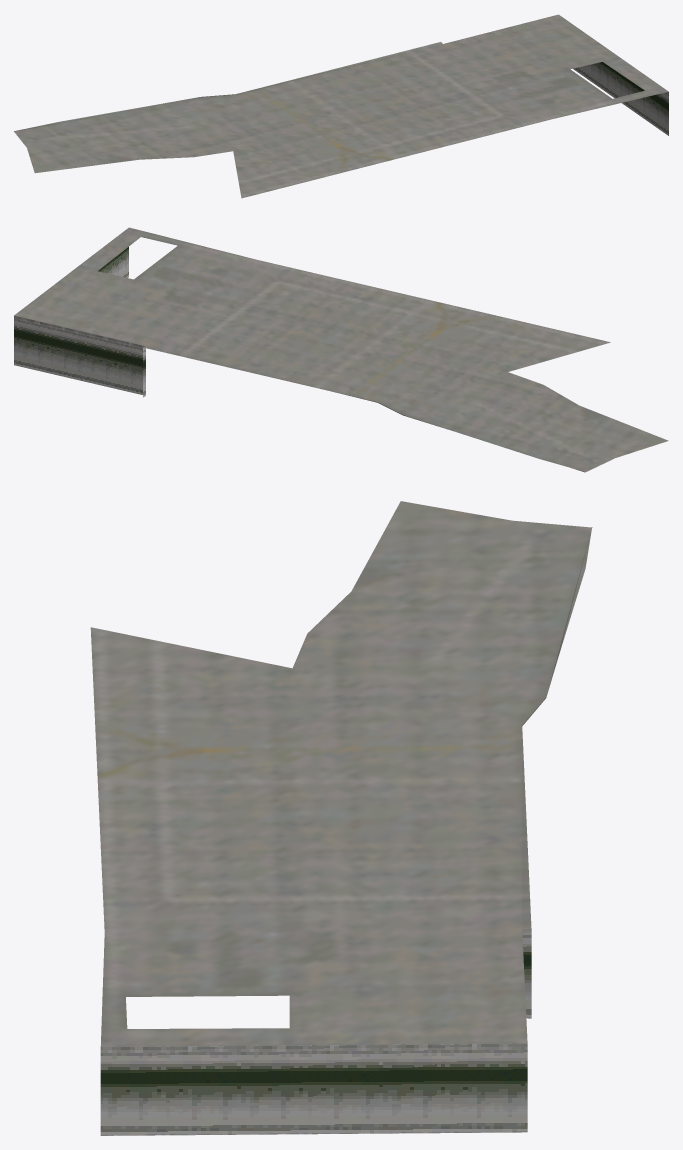
File: lodprtgnd_ct_sfse.obj
The picture shows the model from 3 angles, top to bottom: view 1: azimuth 30°, elevation 25°; view 2: azimuth 150°, elevation 25°; view 3: azimuth 270°, elevation 25°; orthographic projection. The views are drawn at different scales.
Parts seen in each view (by area): view 1: LODprtgnd_ct_SFSe; view 2: LODprtgnd_ct_SFSe; view 3: LODprtgnd_ct_SFSe.
Part boxes in pixels (box(x1,y1,x2,y2)): LODprtgnd_ct_SFSe: box(14, 14, 668, 198); LODprtgnd_ct_SFSe: box(14, 227, 668, 472); LODprtgnd_ct_SFSe: box(90, 501, 592, 1135).
Size of the model in its own units: 385 by 29.63 by 150.
Materials: 2 (2 with a texture image).
